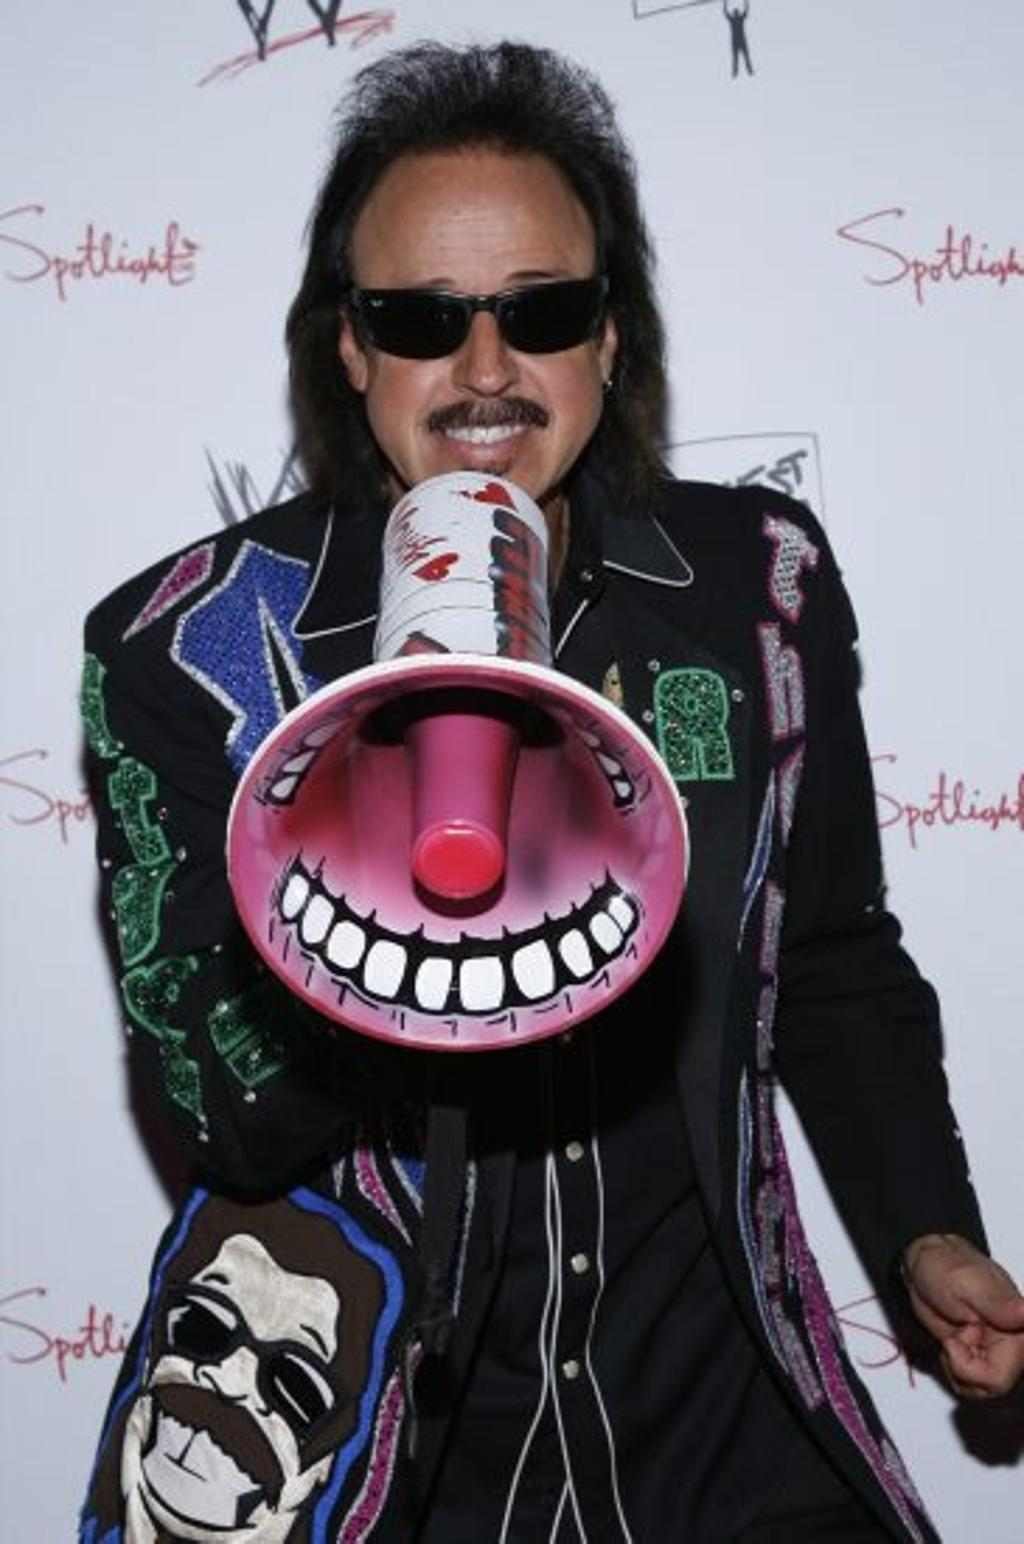face: (355, 187, 596, 509)
